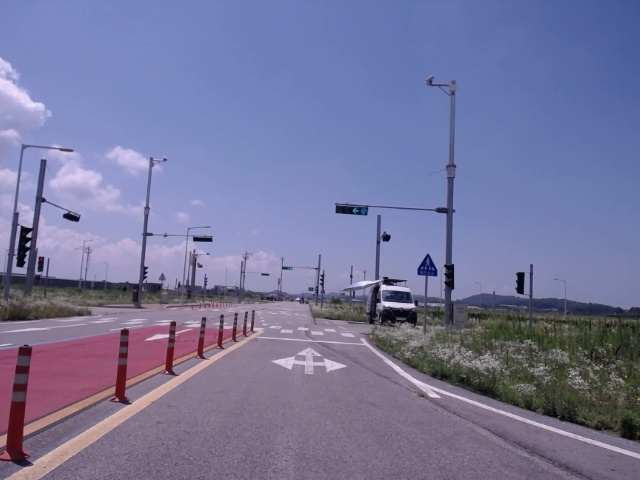all_green_4: (336, 205, 371, 217)
